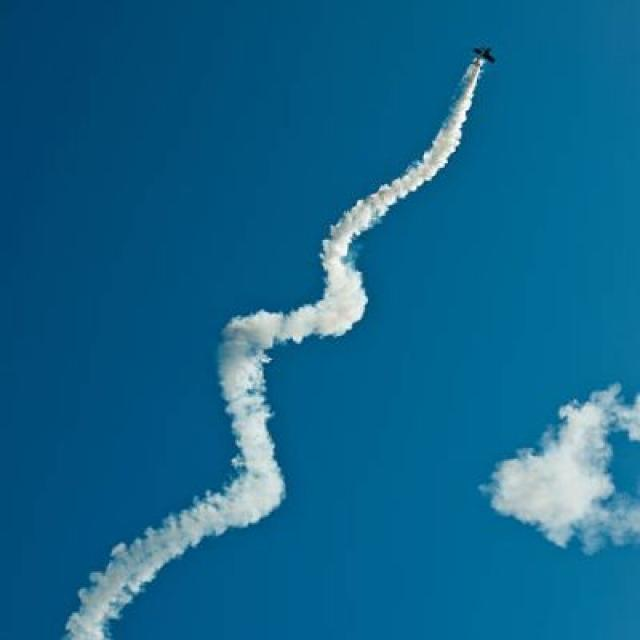Ct: (54, 36, 502, 639)
